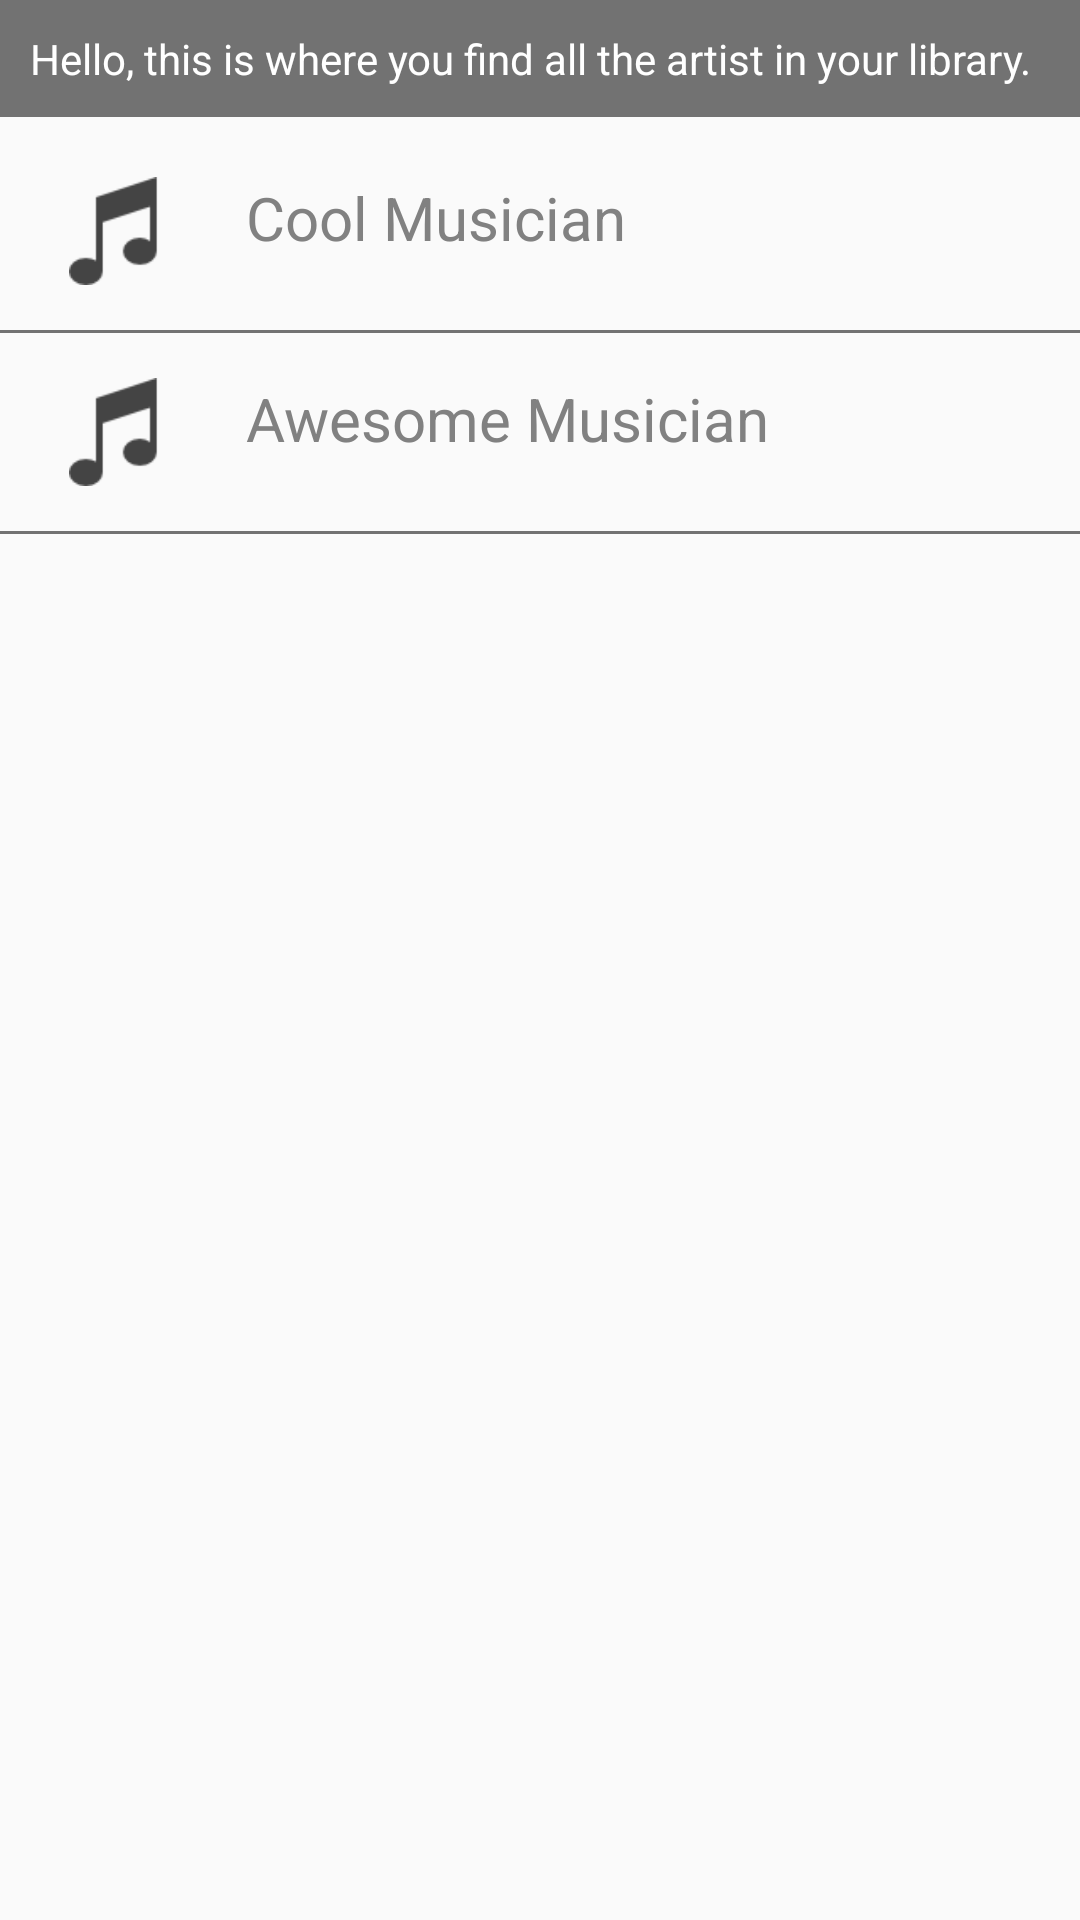

Icons on this 1080 x 1920 Android screen, each with the point to tap as (x,y):
music library: (113,231), (113,432)
